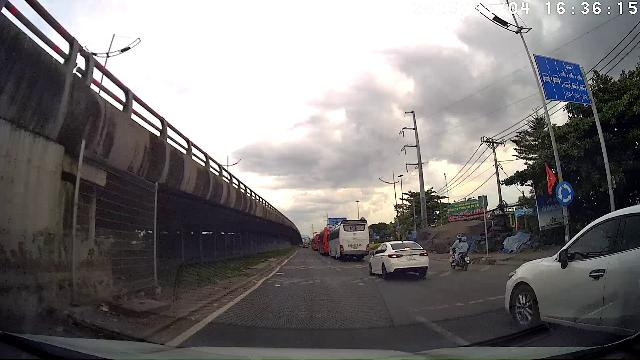303-noi-giao-nhau-chay-theo-vong-xuyen: (555, 181, 574, 205)
